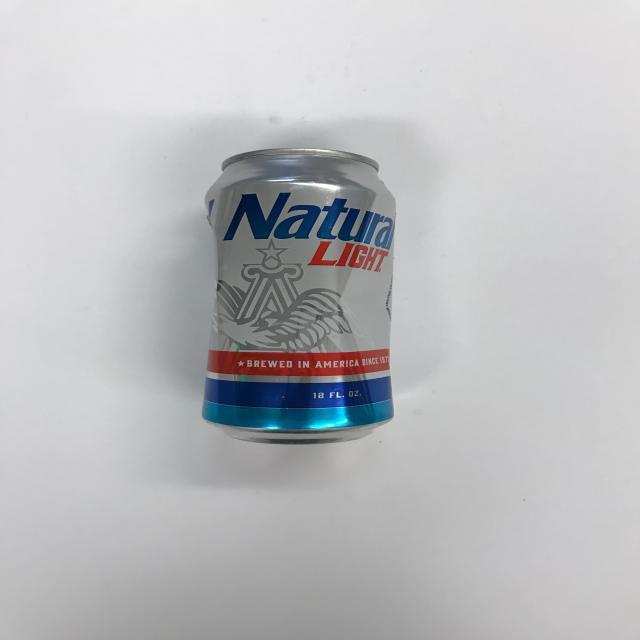metal: (195, 146, 402, 450)
